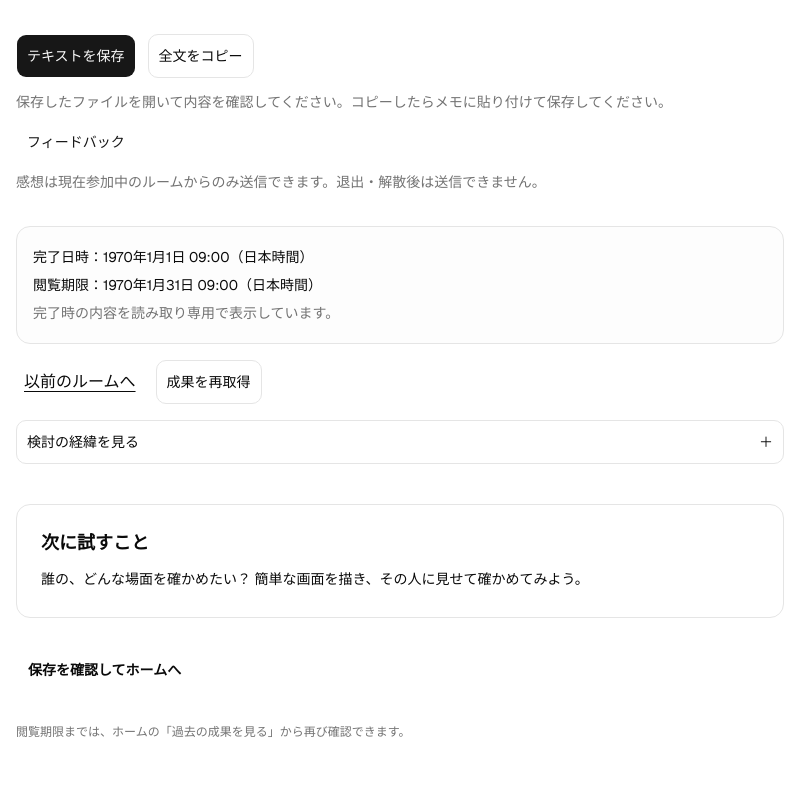
Scenario: 反映待ちから同じ場面を再取得して正常な0枚を表示する
Click the button "検討の経緯を見る ＋": click(83, 442) [16, 420, 784, 464]
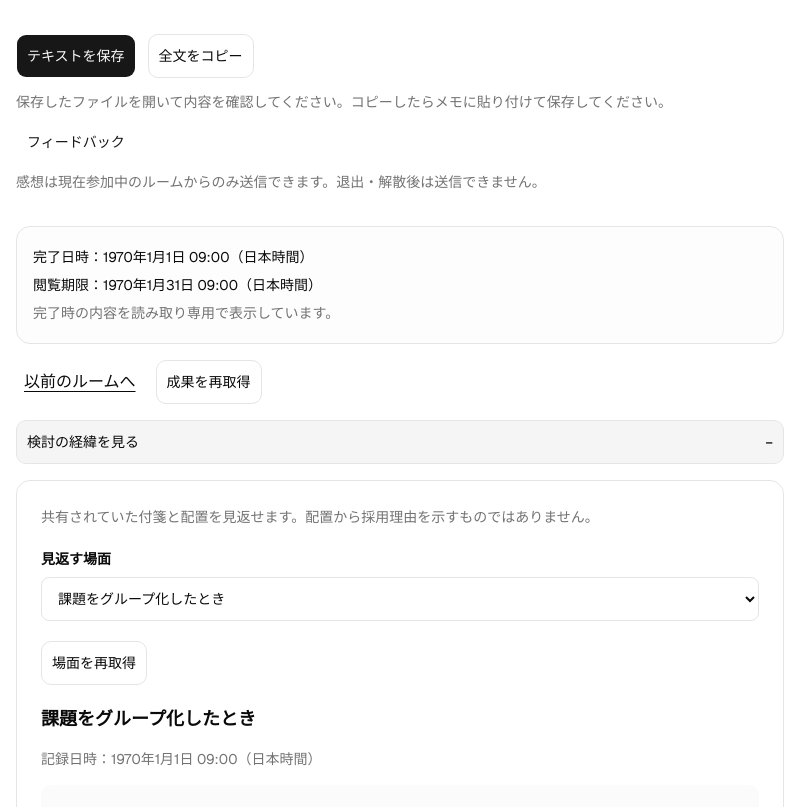
Click the button "場面を再取得": click(94, 663) [41, 641, 147, 685]
(page scrolled)
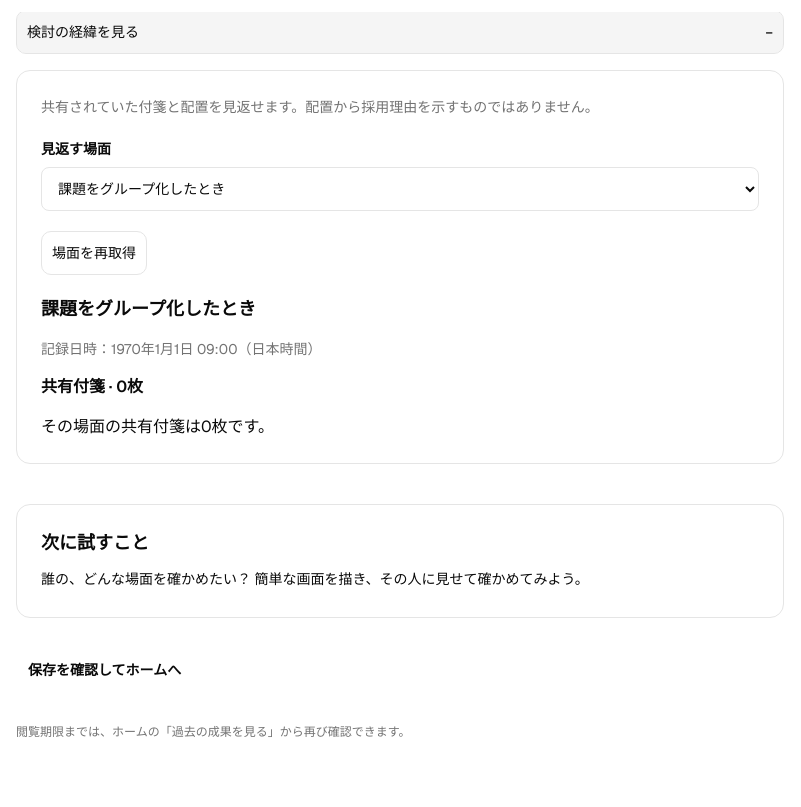
expect the text "その場面の共有付箋は0枚です。" is shown: met, box [41, 416, 274, 437]
